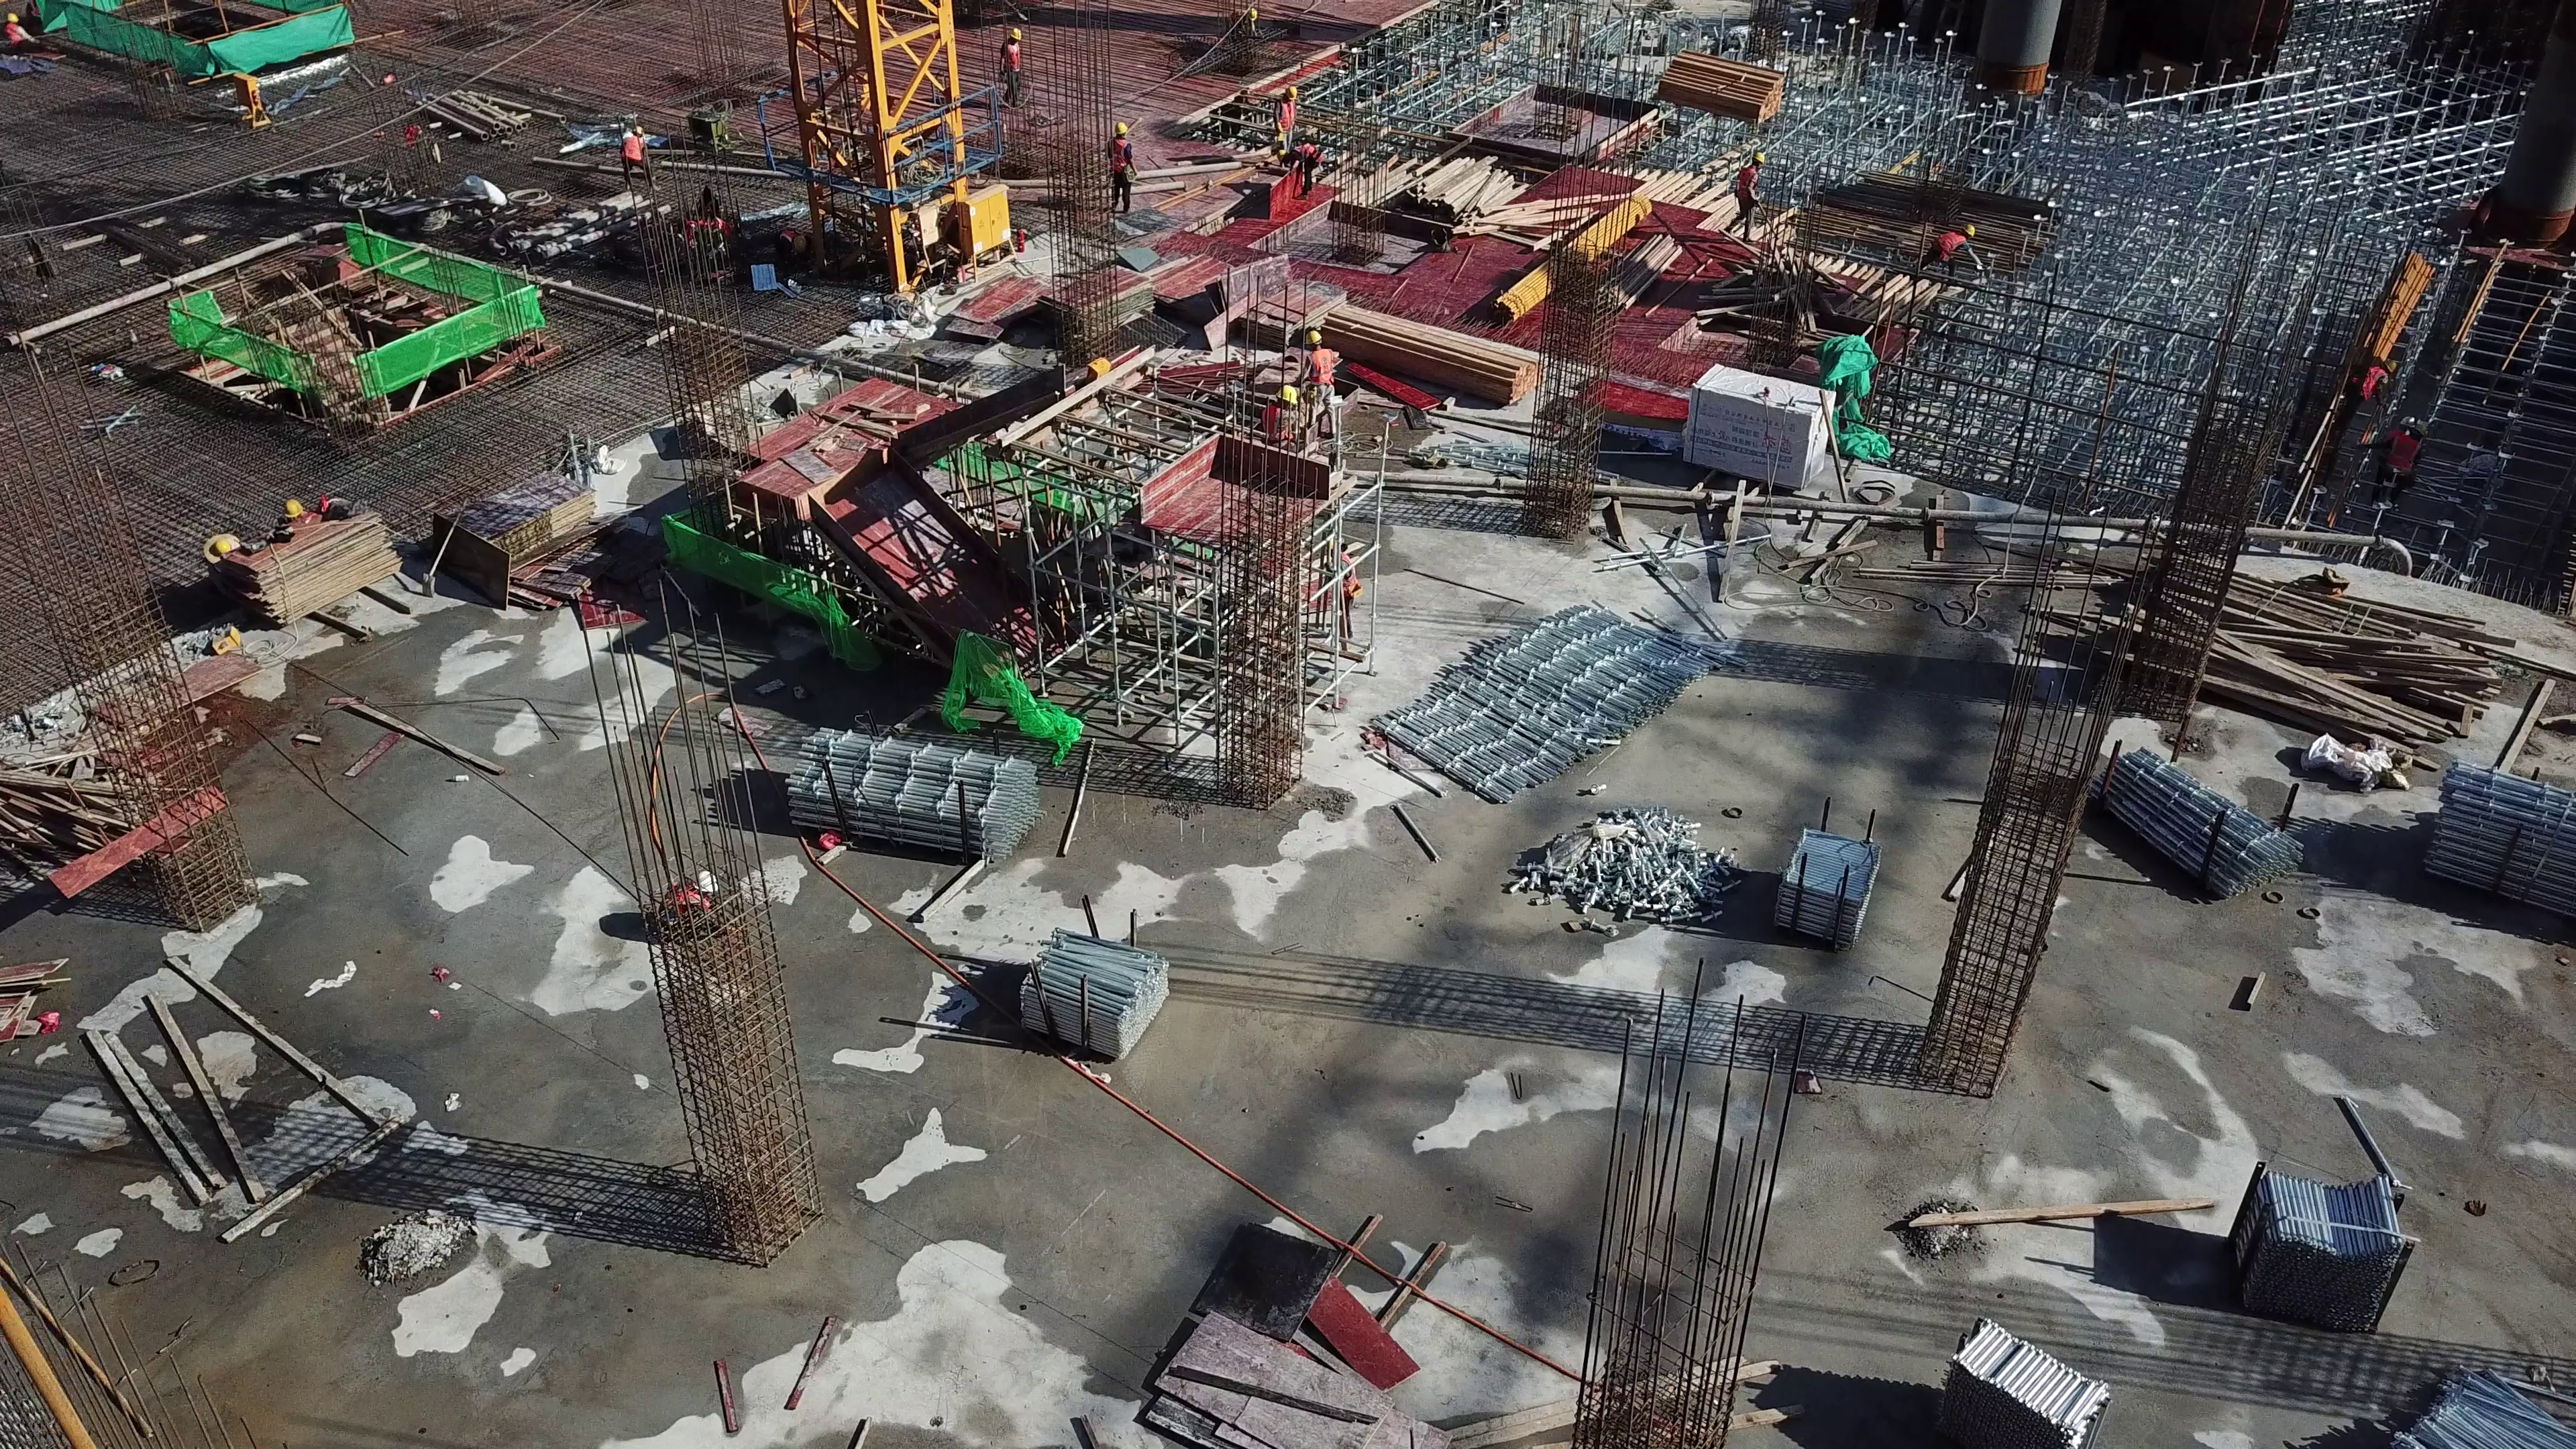board: (437, 459, 592, 610), (224, 508, 394, 625)
person: (1727, 135, 1776, 237), (1099, 112, 1146, 211), (1931, 217, 1983, 299), (606, 115, 662, 188), (1303, 336, 1356, 400), (994, 18, 1032, 95), (1271, 76, 1309, 152), (1283, 135, 1324, 193)
scaffold: (1379, 608, 1718, 800), (2102, 739, 2307, 920), (2237, 1162, 2418, 1337), (802, 745, 1026, 855), (2429, 765, 2576, 930), (1942, 1322, 2108, 1449), (1012, 943, 1167, 1054), (2392, 1375, 2574, 1449), (1788, 829, 1864, 937)
wood: (2027, 520, 2514, 783), (1316, 299, 1548, 415), (1350, 150, 1557, 231)
